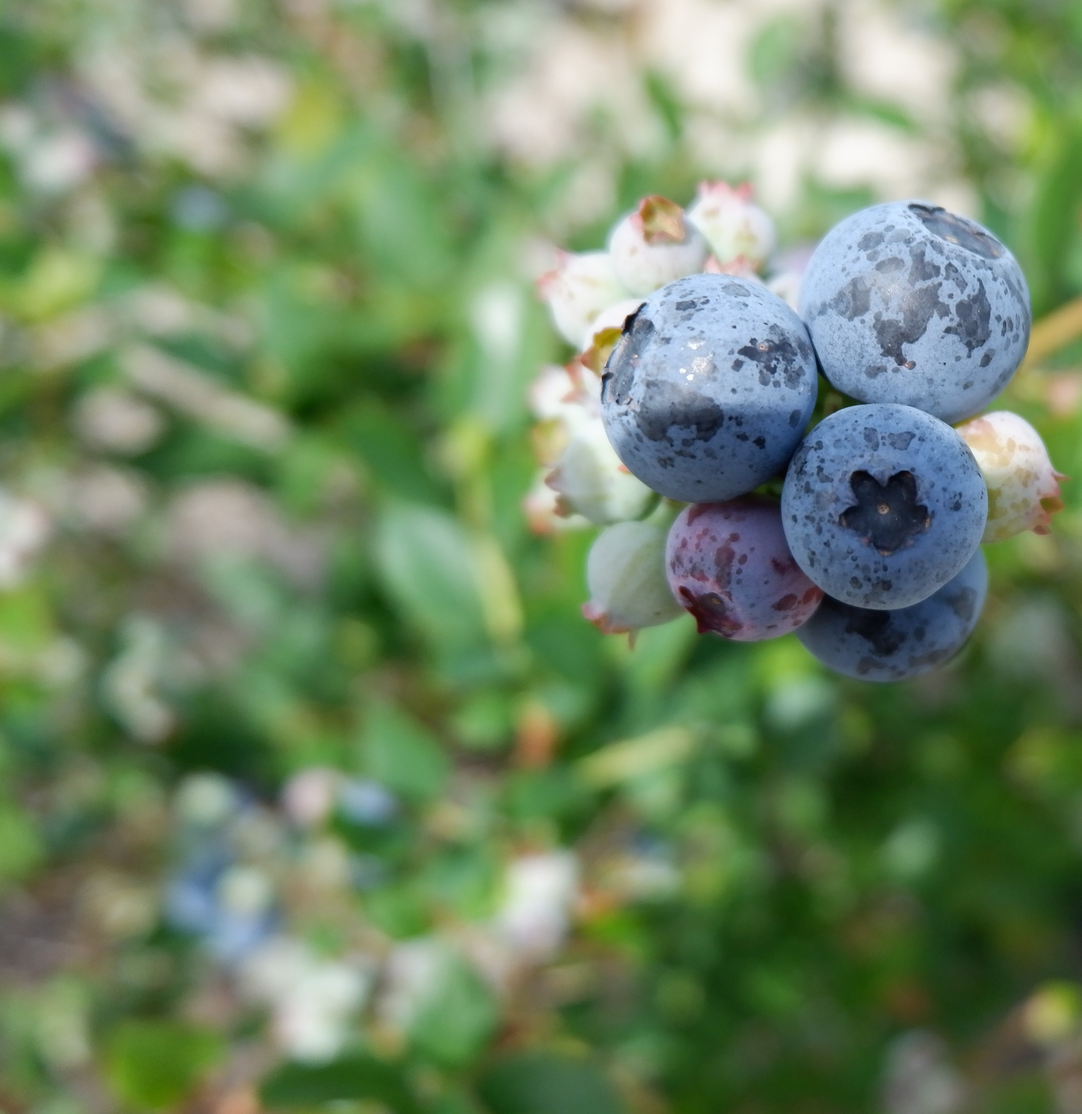Immature: (667, 495, 817, 640), (956, 412, 1061, 540), (585, 523, 681, 639), (546, 430, 658, 524), (612, 200, 706, 292), (540, 251, 631, 341), (692, 179, 777, 268)
Mature: (606, 276, 819, 495), (810, 205, 1030, 413), (792, 402, 985, 606), (803, 562, 983, 680)
